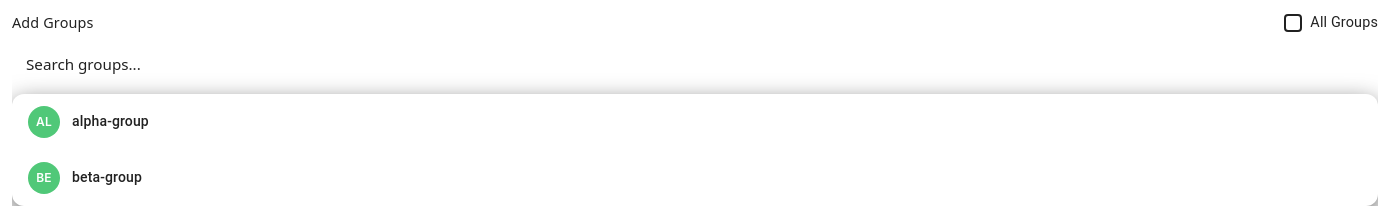
GroupSelectionPanel › Search with Different Data Formats › should search groups with group_name field
Type "alpha" into the field with placeholder "Search groups...". click: (695, 64)
box: top-left (12, 42), bottom-right (1378, 86)
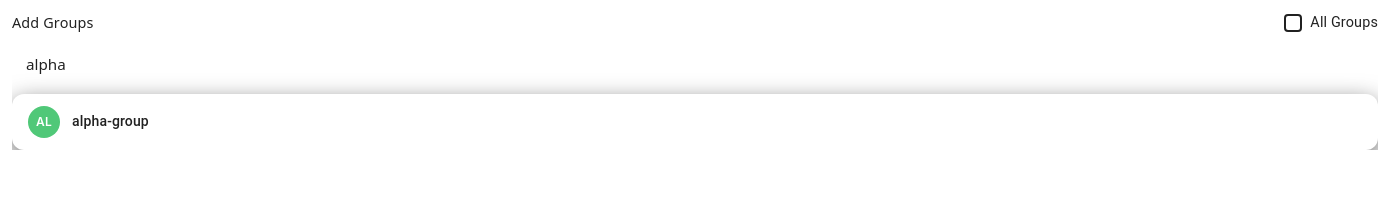
expect the number of buttons with class "group-selection-dropdown-item" is 1: met, box top-left (28, 106), bottom-right (149, 138)
